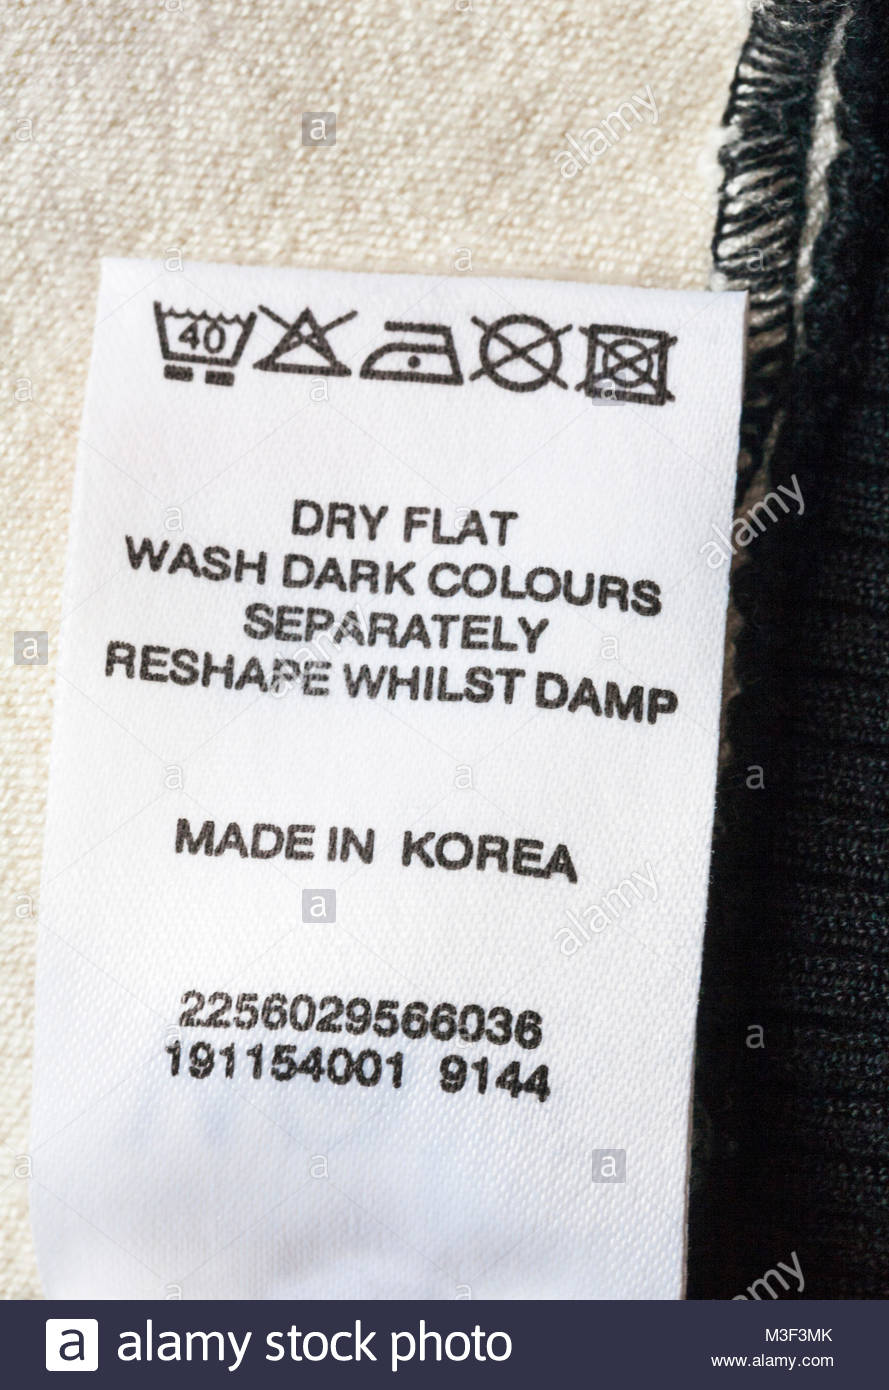do_not_bleach: (260, 302, 352, 388)
do_not_dry_clean: (465, 312, 570, 396)
